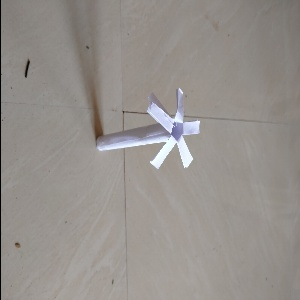weed: (91, 89, 204, 172)
